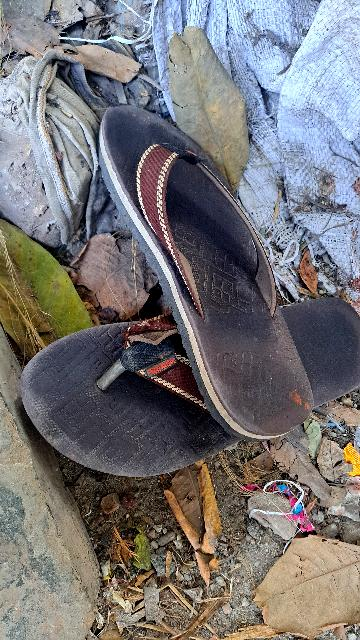sandal: (93, 65, 326, 451), (21, 274, 360, 518)
